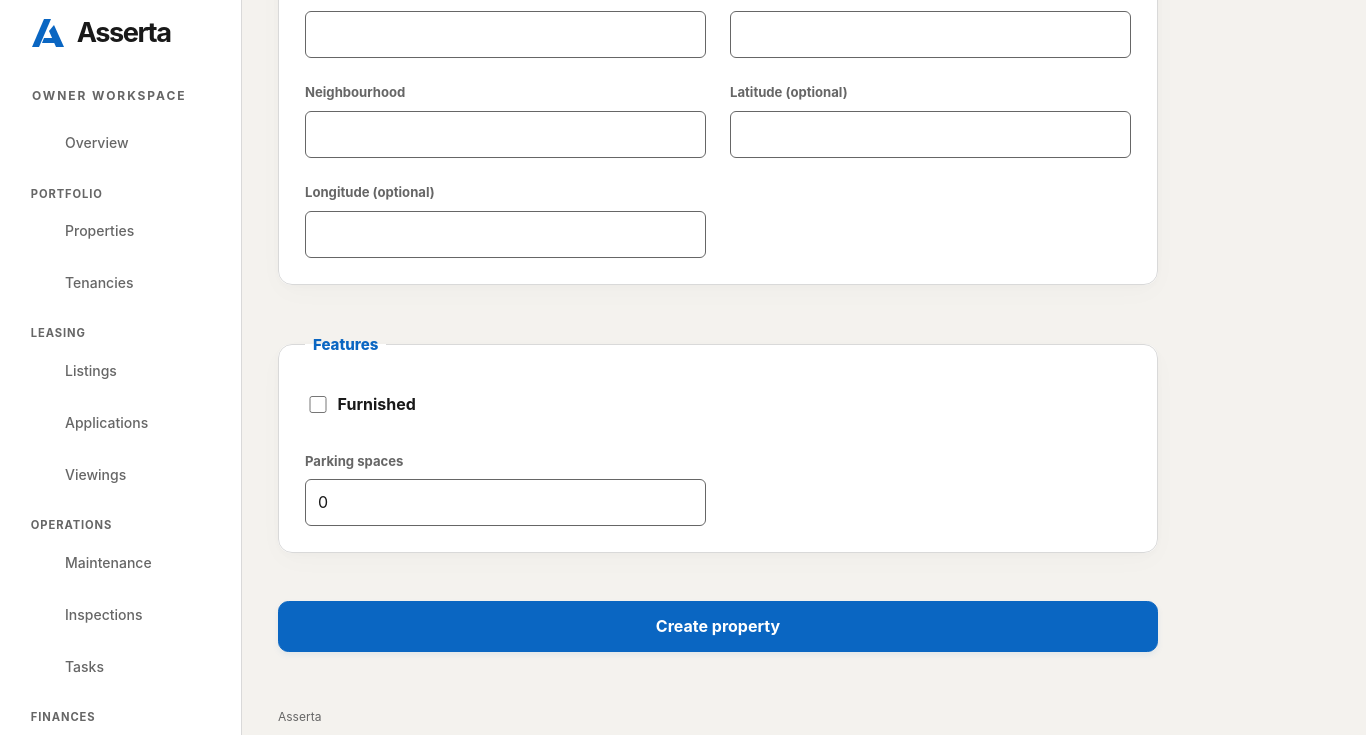
Test: property create and validation › shows field-level validation without submitting invalid data
(page scrolled)
Click the button "Create property".
click(718, 627)  # box [278,602,1158,652]
(page scrolled)
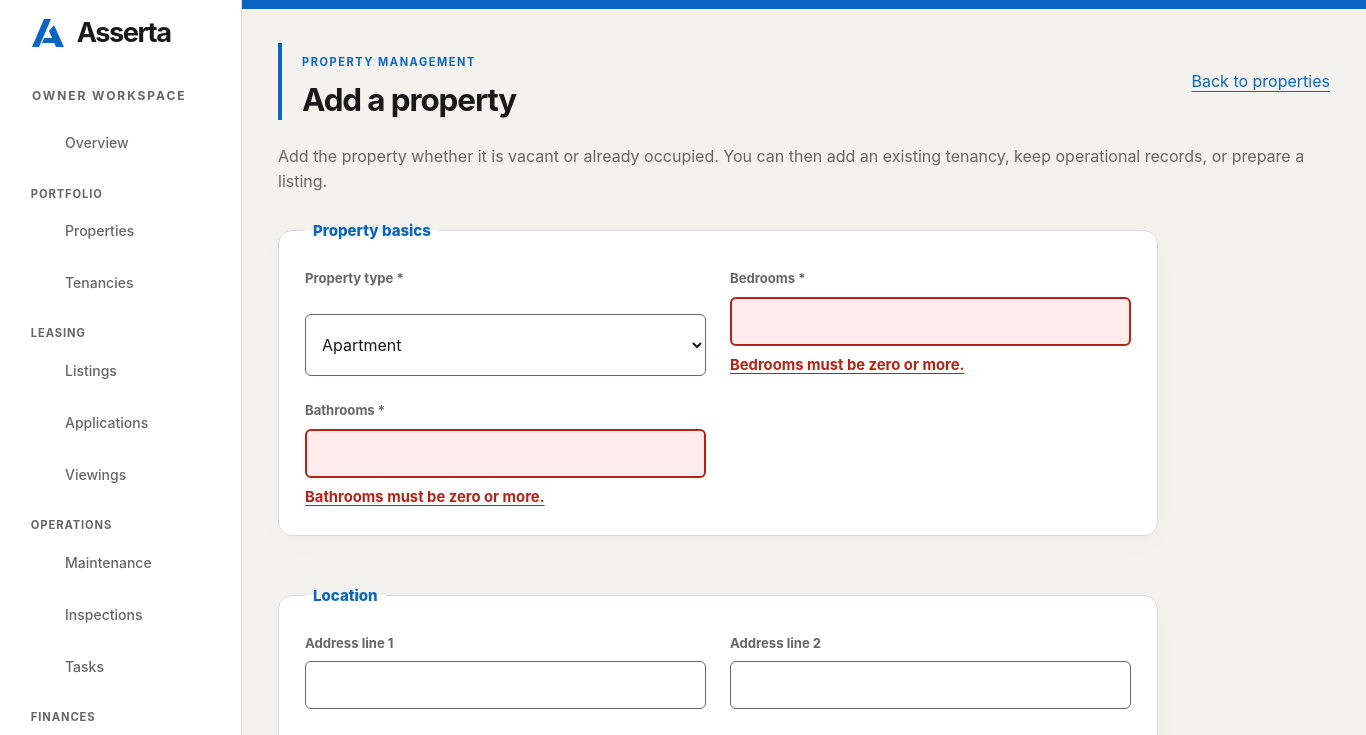
Expected: the text "Bedrooms must be zero or more." is shown, [730,356,964,374]
